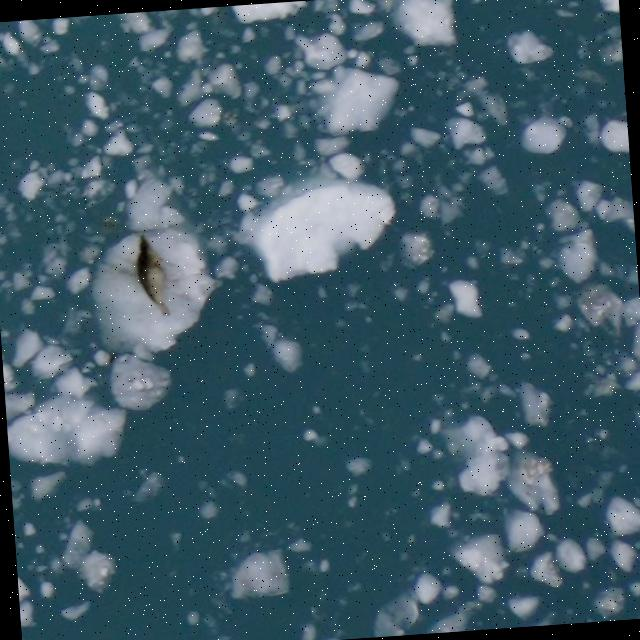seal: (121, 232, 182, 320)
